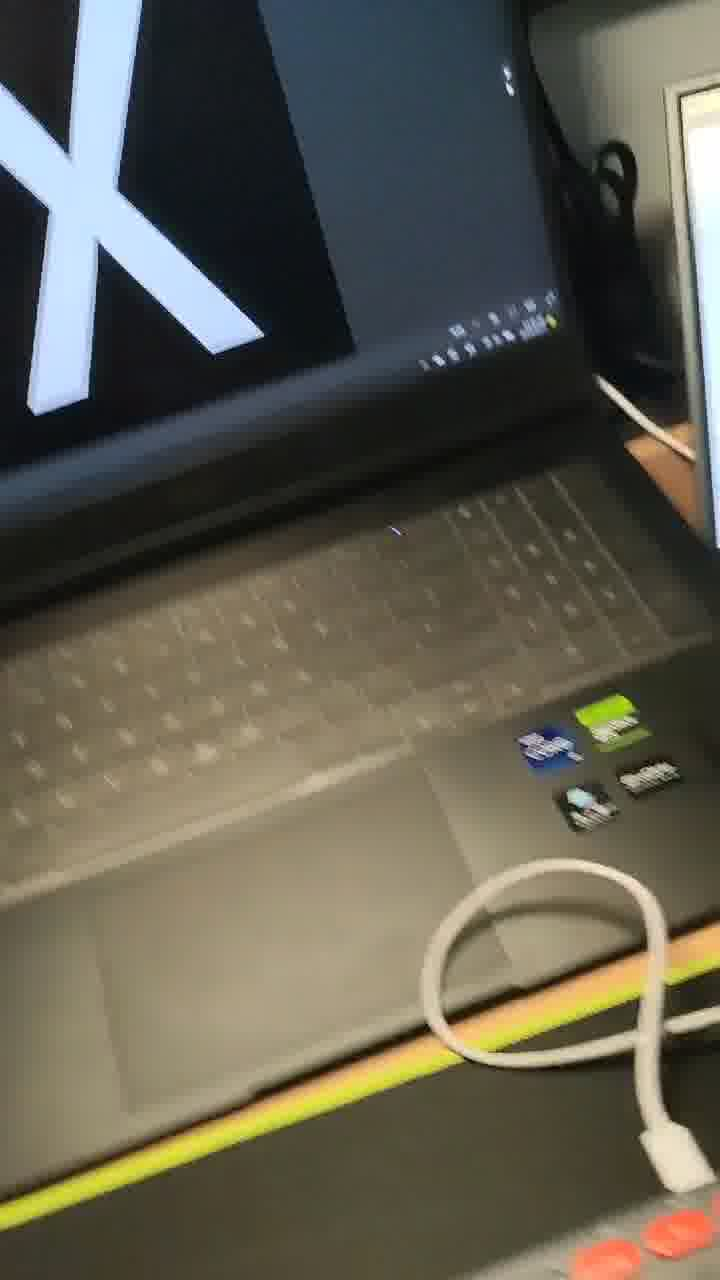X: (1, 1, 331, 499)
